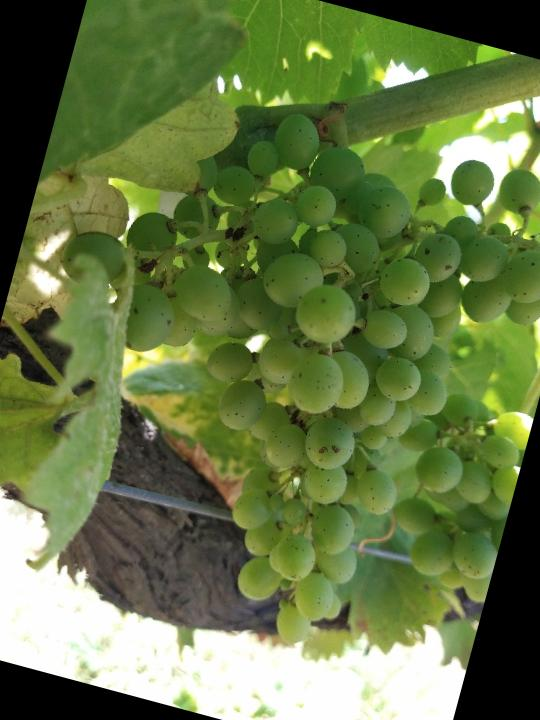grape: (0, 56, 540, 691)
